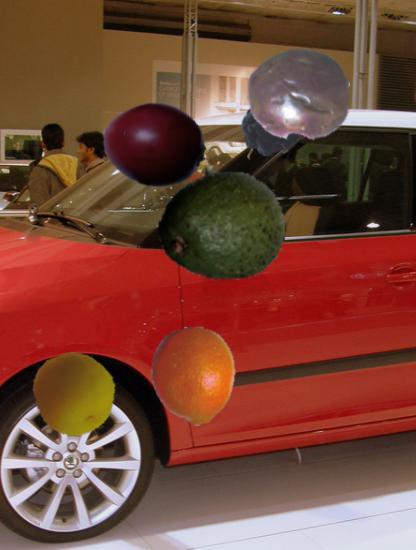Avocado: (159, 159, 285, 285)
Mulberry: (226, 70, 319, 163)
Passion: (245, 42, 352, 149)
Peach: (32, 350, 119, 437)
Tamarillo: (102, 92, 207, 197)
Tangelo: (144, 327, 243, 426)
